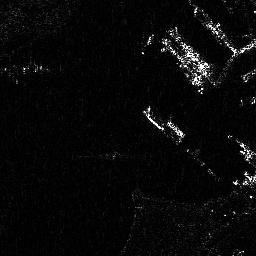ship: (160, 35, 204, 92)
